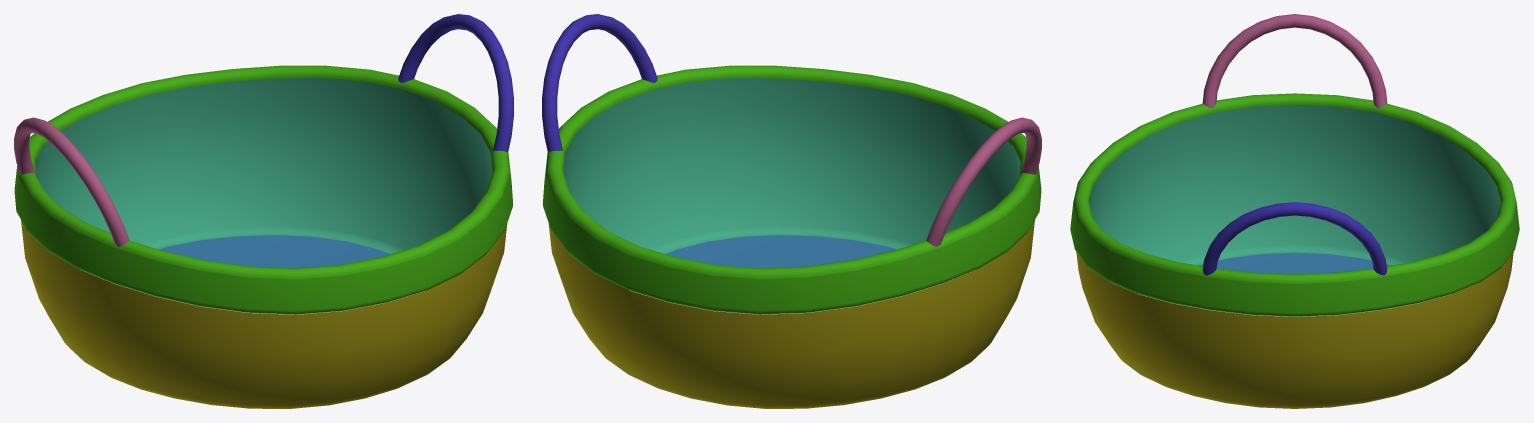
Rendered from BasketEmpty_Style_01.fbx.
3 views of the same model, side by side, from view 1: azimuth 30°, elevation 25°; view 2: azimuth 150°, elevation 25°; view 3: azimuth 270°, elevation 25° (orthographic). The views are drawn at different scales.
Visible parts, largest first — view 1: SetA_BasketEmpty_Style_01; view 2: SetA_BasketEmpty_Style_01; view 3: SetA_BasketEmpty_Style_01.
Part boxes in pixels (bbox=[...]): SetA_BasketEmpty_Style_01: bbox=[14, 14, 513, 408]; SetA_BasketEmpty_Style_01: bbox=[542, 14, 1041, 408]; SetA_BasketEmpty_Style_01: bbox=[1070, 14, 1519, 408].
Size of the model in its own units: 0.693 by 0.3811 by 0.6793.
